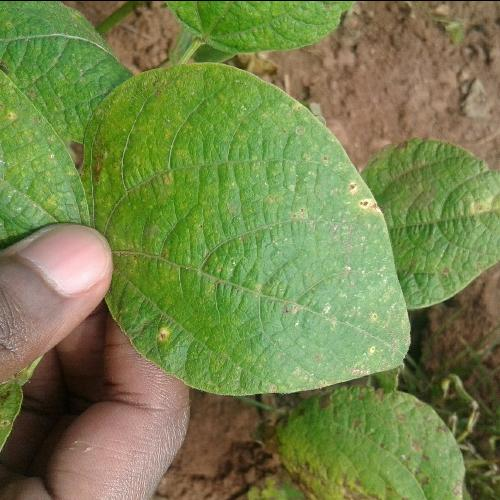hawar: (302, 150, 401, 394), (128, 292, 212, 377)
